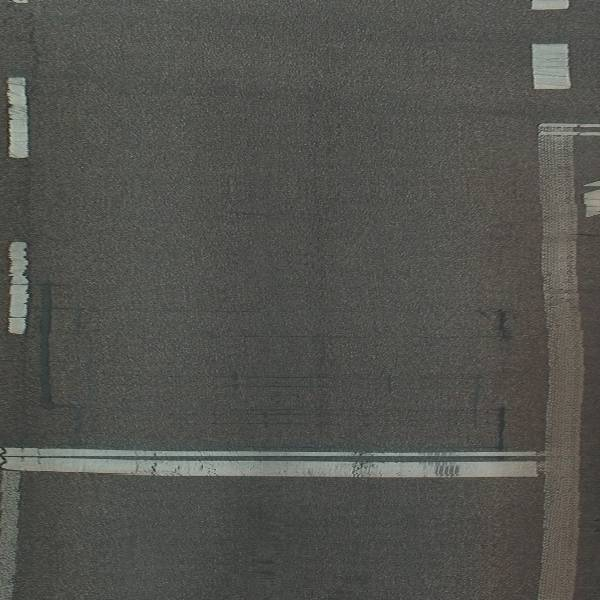road_damage: (37, 279, 61, 420), (213, 418, 325, 429), (215, 374, 338, 383), (492, 406, 509, 464), (492, 304, 513, 343), (236, 334, 357, 340)
